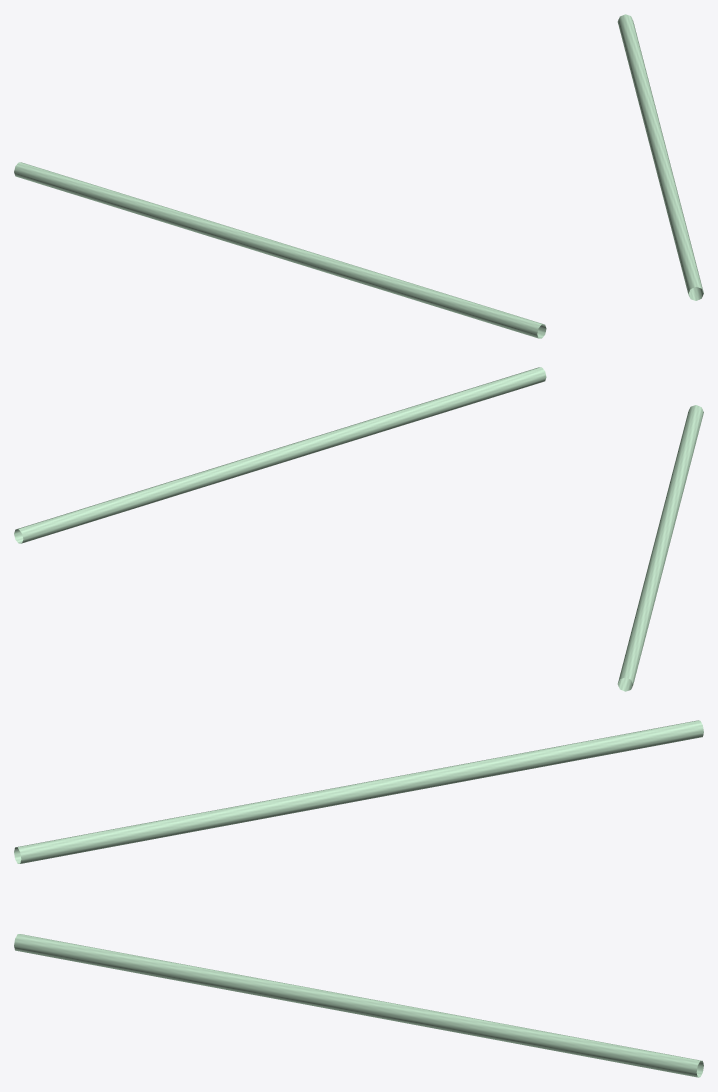
Rendered from Boat_Wake.fbx.
3 renders of one model, top to bottom at view 1: azimuth 30°, elevation 25°; view 2: azimuth 150°, elevation 25°; view 3: azimuth 270°, elevation 25°, orthographic. The views are drawn at different scales.
Visible parts, largest first — view 1: Boat_Wake; view 2: Boat_Wake; view 3: Boat_Wake.
Part boxes in pixels (x1=…): Boat_Wake: x1=14, y1=14, x2=703, y2=338; Boat_Wake: x1=14, y1=367, x2=703, y2=691; Boat_Wake: x1=14, y1=720, x2=703, y2=1077.
Bounding box in the file's own units: 723 × 606 × 16.
